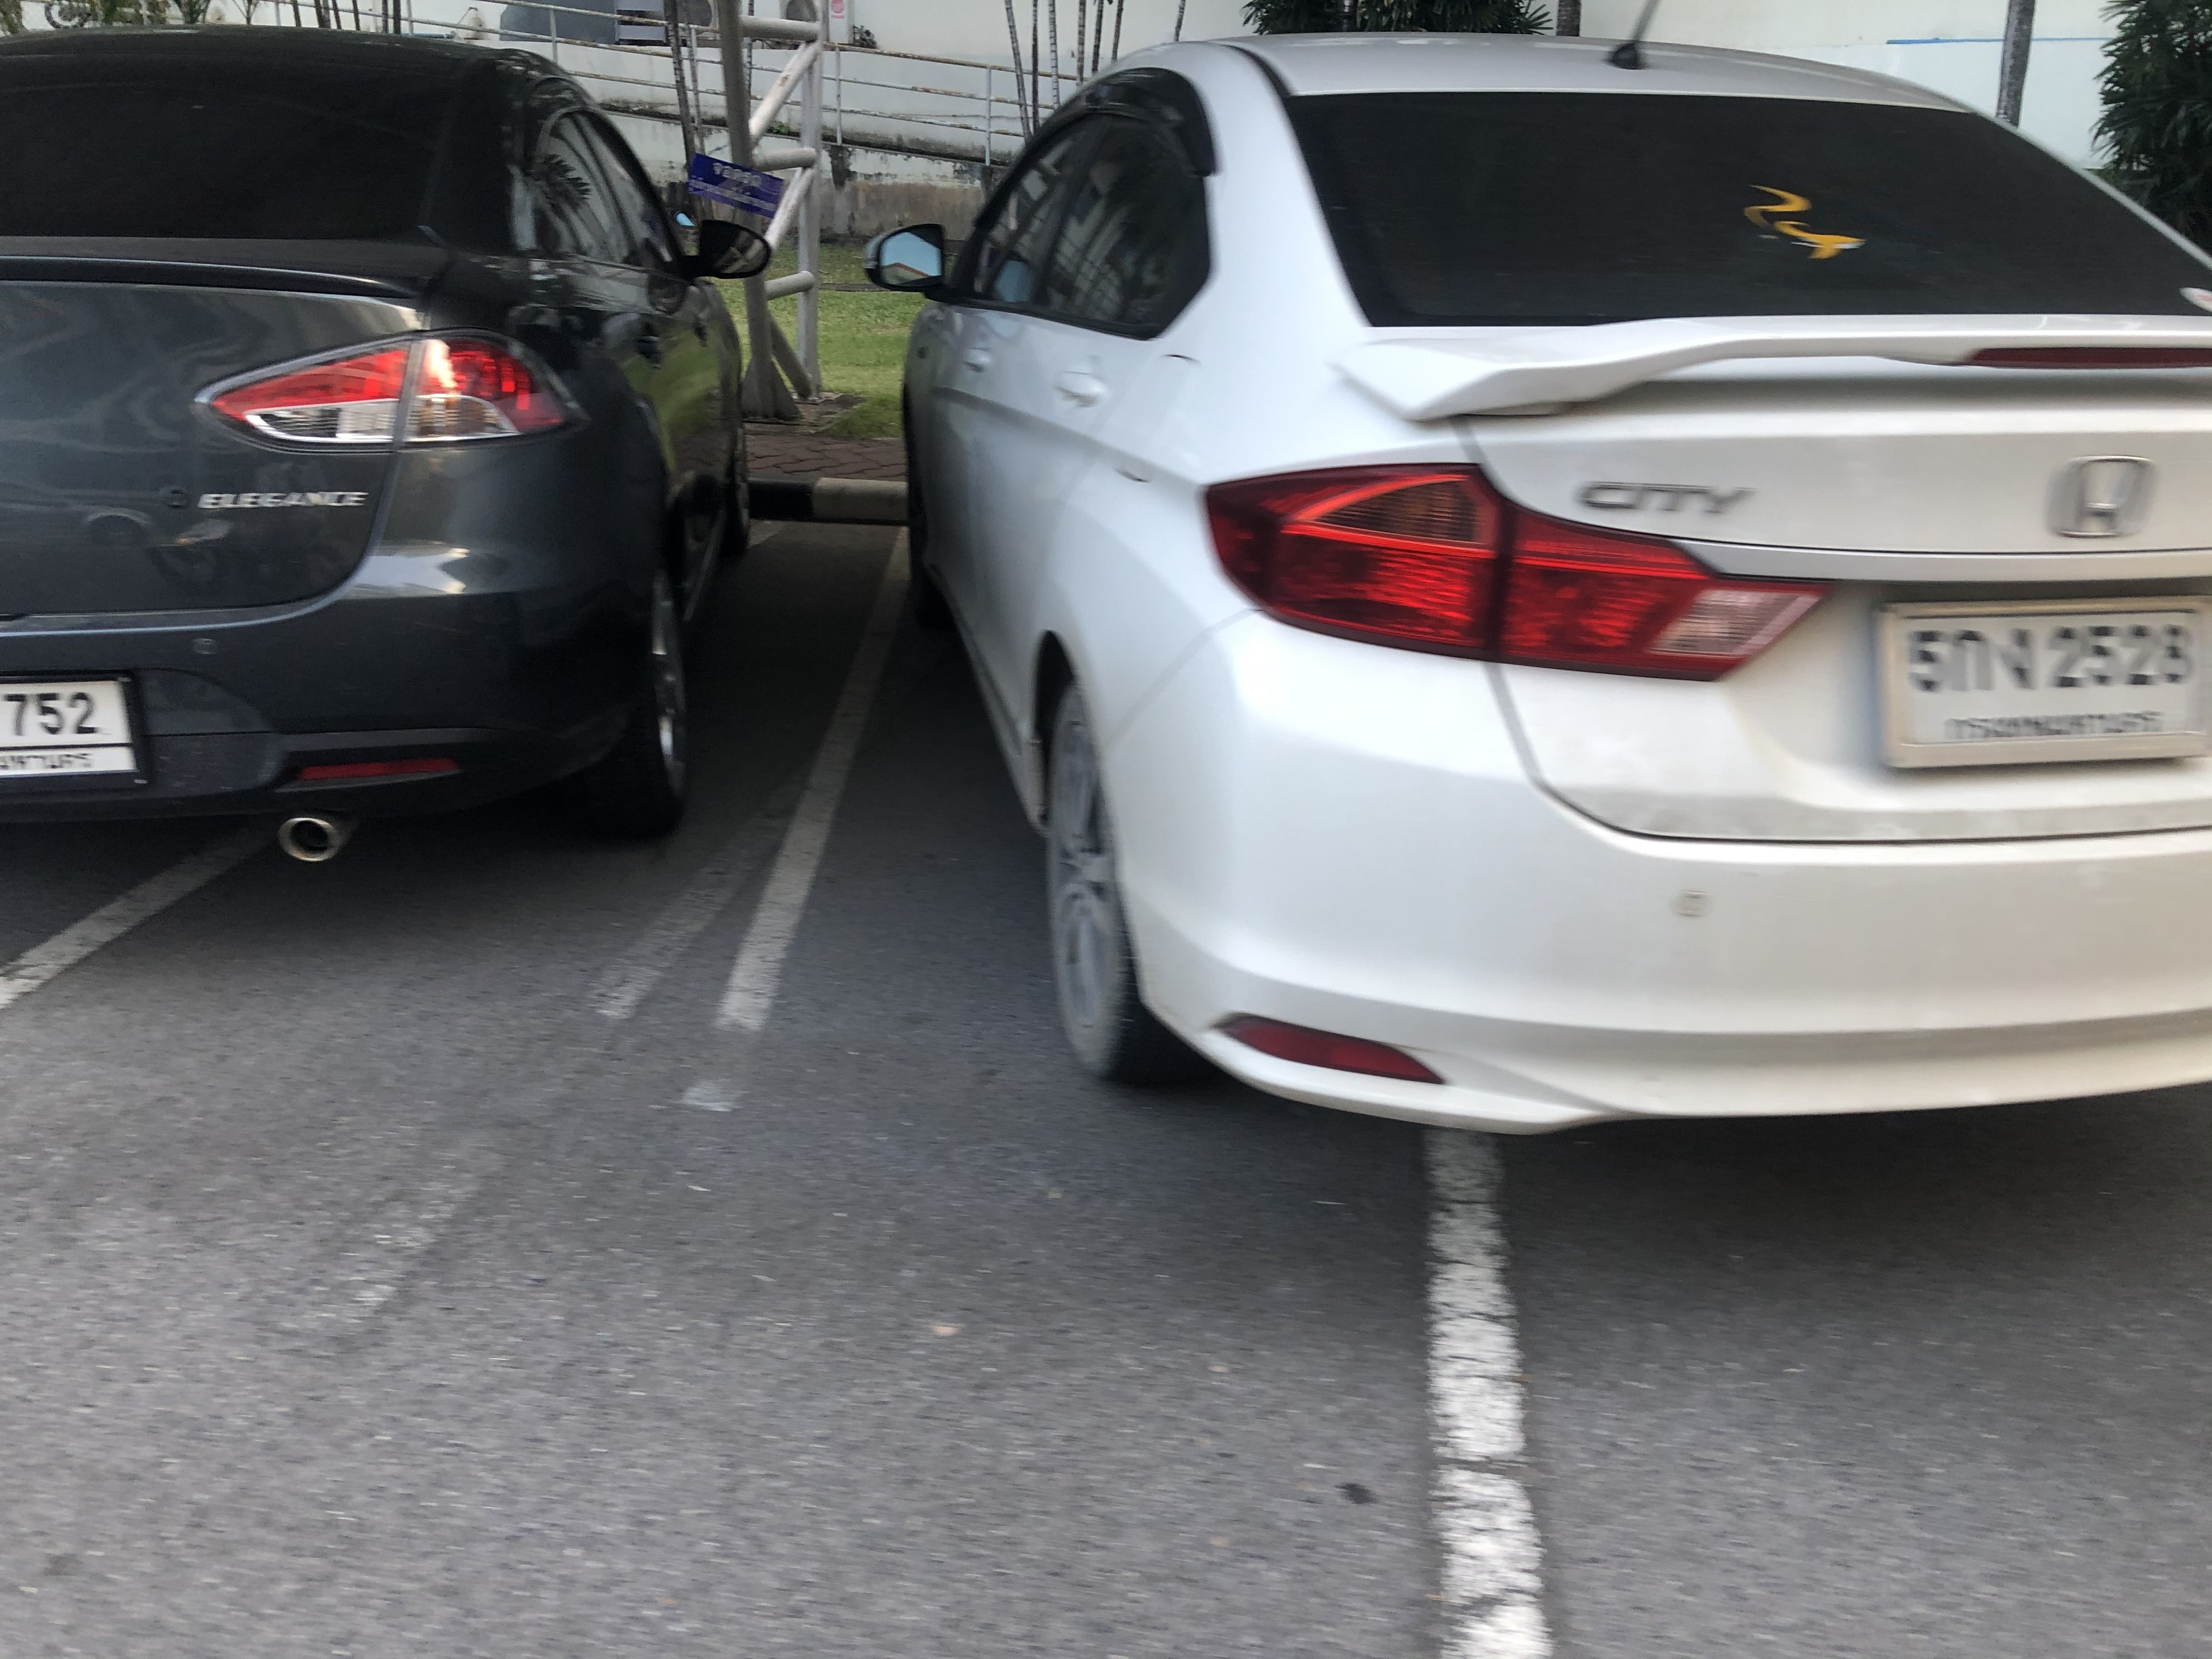in: (1909, 617, 2198, 735)
out: (1862, 589, 2212, 770)
